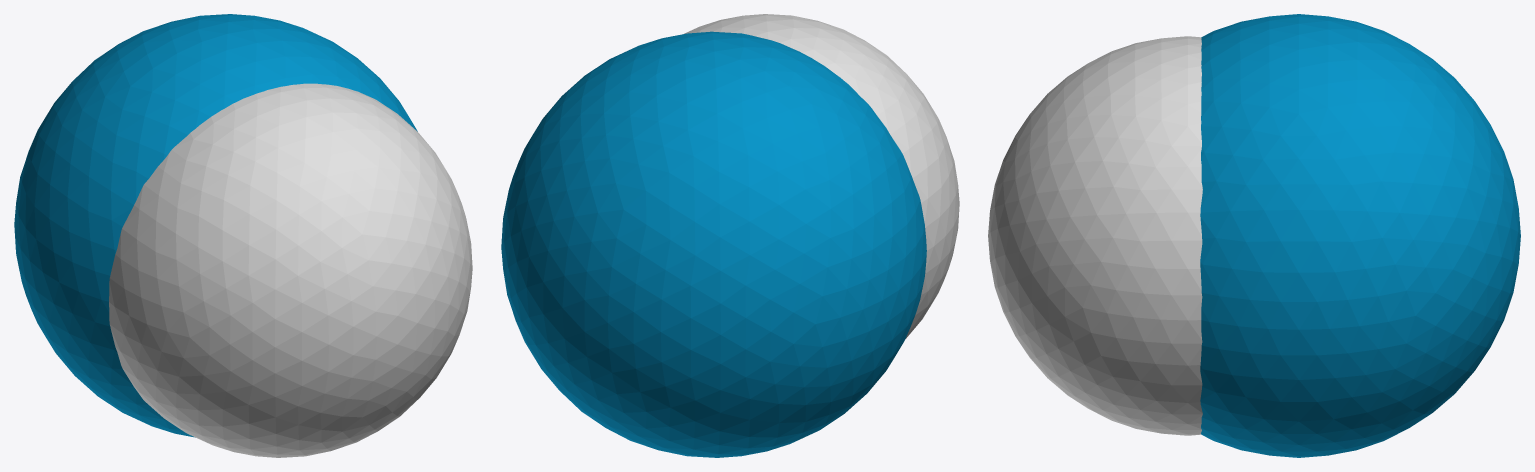
File: doraemon_model.glb
3 views of the same model, side by side, from view 1: azimuth 30°, elevation 25°; view 2: azimuth 150°, elevation 25°; view 3: azimuth 270°, elevation 25° (orthographic). The views are drawn at different scales.
Visible parts, largest first — view 1: world; view 2: world; view 3: world.
Boxes of the visible parts, x1=… form: world: x1=14, y1=14, x2=472, y2=457; world: x1=501, y1=14, x2=959, y2=457; world: x1=988, y1=14, x2=1520, y2=457.
Size of the model in its own units: 2 by 2 by 2.4.
